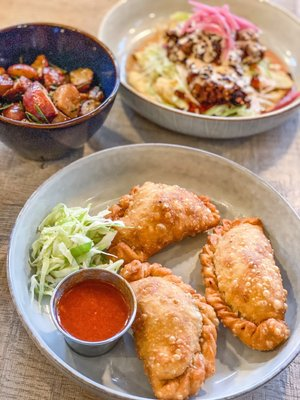soup: (128, 273, 220, 400)
sushi: (7, 143, 300, 399), (106, 0, 300, 140), (0, 22, 121, 162), (50, 269, 137, 358)
